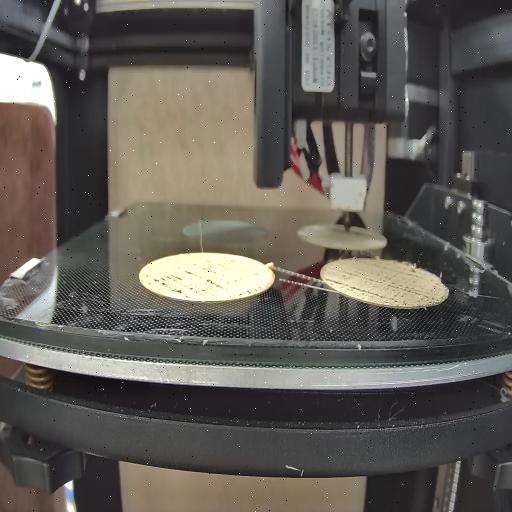under_extrusion: (324, 266, 436, 304), (150, 272, 266, 294)
